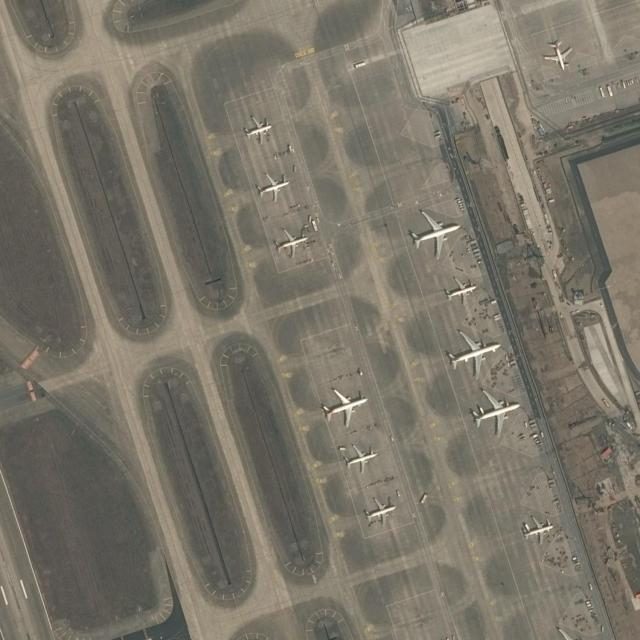Aircraft: (446, 331, 502, 380), (404, 211, 461, 253), (468, 390, 518, 434), (318, 386, 368, 426), (268, 220, 317, 256), (341, 441, 379, 473), (520, 517, 558, 547), (540, 39, 572, 73), (240, 115, 275, 145), (256, 174, 290, 199), (365, 499, 396, 525), (544, 625, 596, 640), (446, 278, 476, 302)
